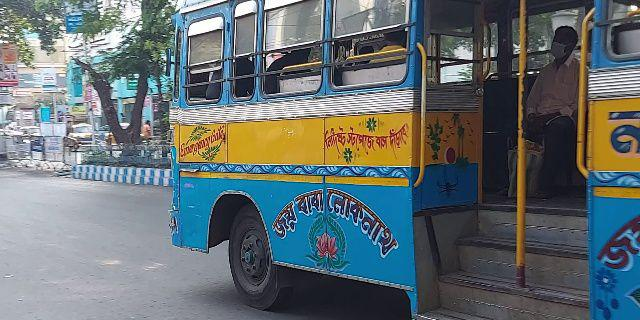Bus: (169, 1, 638, 320)
